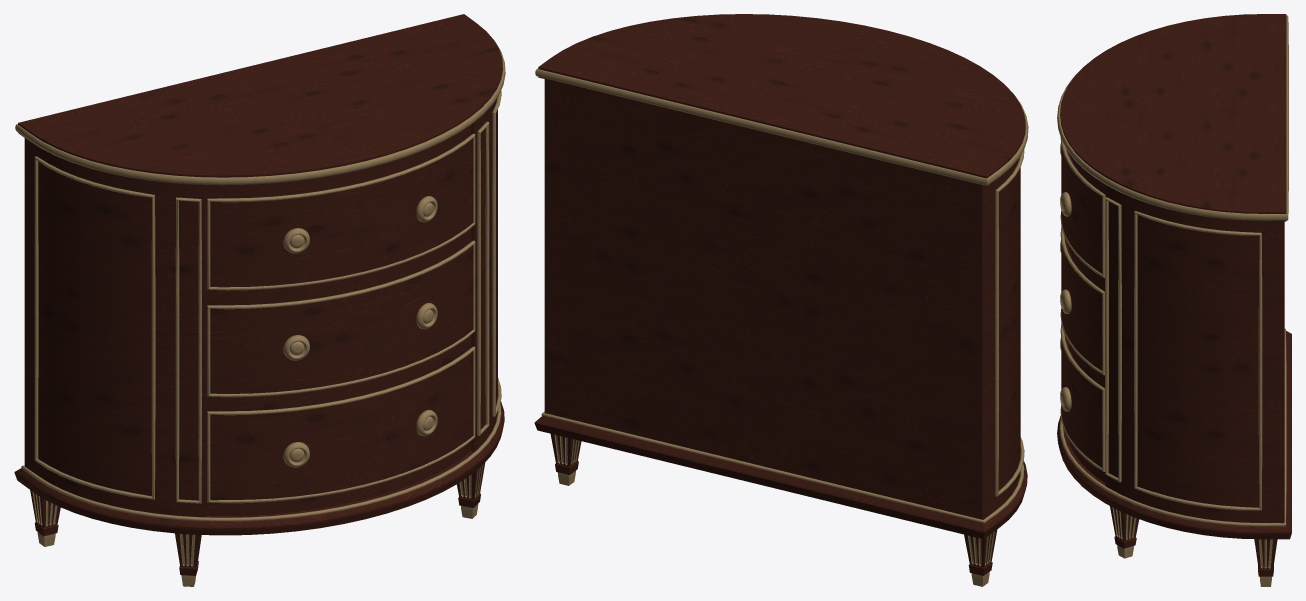
The model's file is cabinet_type_1.glb.
3 views of the same model, side by side, from view 1: azimuth 30°, elevation 25°; view 2: azimuth 150°, elevation 25°; view 3: azimuth 270°, elevation 25° (orthographic). The views are drawn at different scales.
Parts seen in each view (by area): view 1: Circle.014, Circle.022, Circle.021, Circle.017, Circle.019, Circle.018, Circle.020, Plane.031, Circle.023; view 2: Circle.014, Circle.021, Circle.018, Circle.020, Plane.031, Circle.017; view 3: Circle.014, Circle.021, Circle.022, Circle.017, Circle.018, Circle.020, Circle.019, Plane.031, Circle.023.
Part boxes in pixels (<box>): Circle.014: <box>24,99,497,517</box>; Circle.022: <box>210,136,473,500</box>; Circle.021: <box>18,14,502,185</box>; Circle.017: <box>34,90,501,503</box>; Circle.019: <box>207,133,475,503</box>; Circle.018: <box>14,401,504,535</box>; Circle.020: <box>15,42,505,521</box>; Plane.031: <box>30,462,485,586</box>; Circle.023: <box>283,196,437,467</box>; Circle.014: <box>544,79,1020,519</box>; Circle.021: <box>538,14,1025,186</box>; Circle.018: <box>534,415,1027,539</box>; Circle.020: <box>535,68,1028,523</box>; Plane.031: <box>550,434,997,586</box>; Circle.017: <box>995,150,1024,496</box>; Circle.014: <box>1063,153,1284,523</box>; Circle.021: <box>1060,14,1286,221</box>; Circle.022: <box>1061,146,1104,467</box>; Circle.017: <box>1105,197,1262,510</box>; Circle.018: <box>1057,331,1291,539</box>; Circle.020: <box>1057,15,1288,526</box>; Circle.019: <box>1060,138,1105,471</box>; Plane.031: <box>1110,506,1277,586</box>; Circle.023: <box>1060,143,1071,411</box>.
Bounding box in the file's own units: 0.7969 × 0.7054 × 0.3947.
2 materials, 2 textured.
